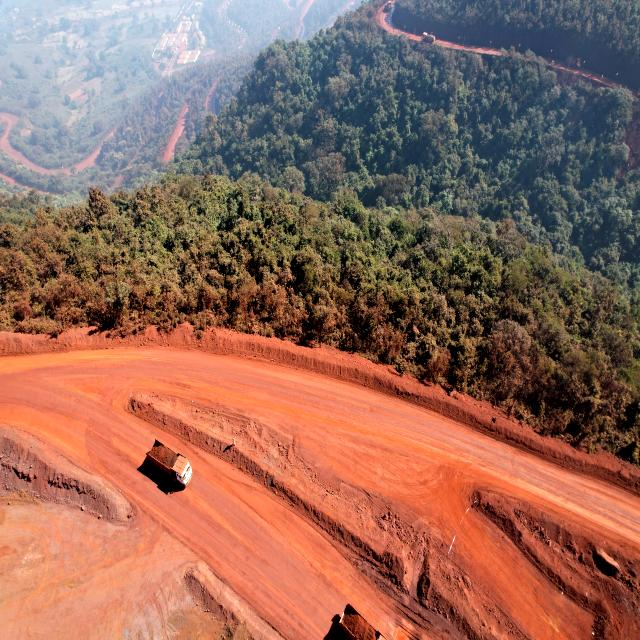Dumper truck: (156, 432, 192, 489), (337, 606, 378, 640), (422, 31, 436, 43), (567, 57, 581, 67), (384, 0, 392, 11)
